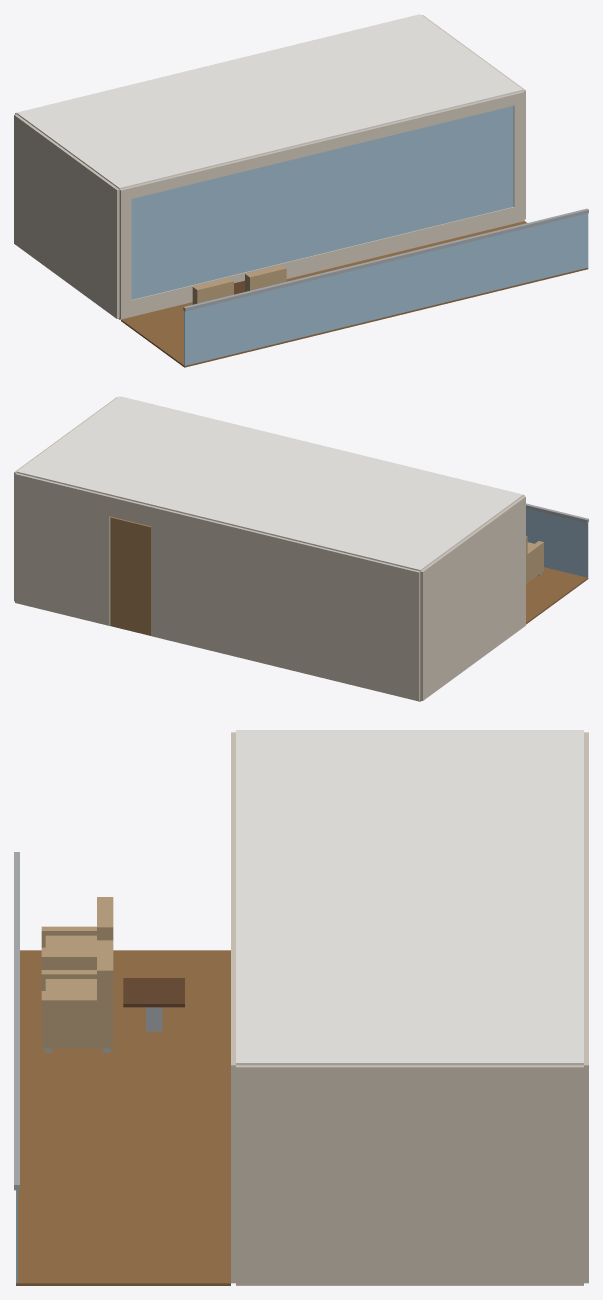
File: cabin_lux.glb
3 renders of one model, top to bottom at view 1: azimuth 30°, elevation 25°; view 2: azimuth 150°, elevation 25°; view 3: azimuth 270°, elevation 25°, orthographic. The views are drawn at different scales.
Parts seen in each view (by area): view 1: cabin_lux (×6); view 2: cabin_lux (×6); view 3: cabin_lux (×6).
Part boxes in pixels (bbox=[...]): cabin_lux (×6): bbox=[14, 14, 588, 367]; cabin_lux (×6): bbox=[14, 396, 588, 701]; cabin_lux (×6): bbox=[14, 730, 588, 1285].
Size of the model in its own units: 7.8 by 2.4 by 5.62.
